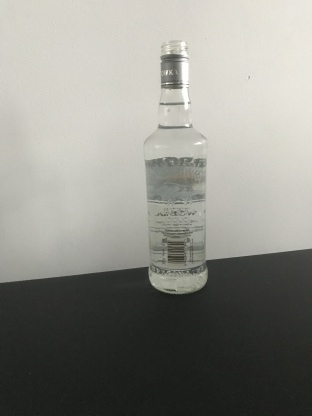nakretka: (158, 38, 191, 89)
